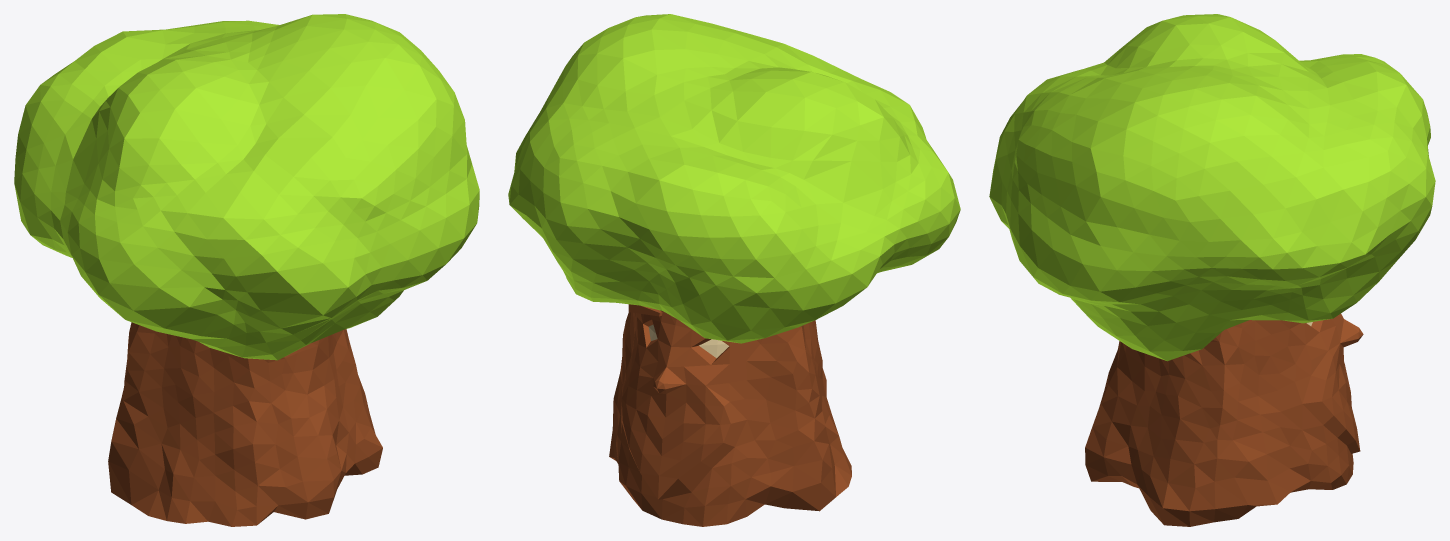
Rendered from tree.fbx.
3 views of the same model, side by side, from view 1: azimuth 30°, elevation 25°; view 2: azimuth 150°, elevation 25°; view 3: azimuth 270°, elevation 25° (orthographic). The views are drawn at different scales.
Visible parts, largest first — view 1: Cylinder.002; view 2: Cylinder.002; view 3: Cylinder.002.
Boxes of the visible parts, x1=… form: Cylinder.002: x1=14, y1=14, x2=479, y2=526; Cylinder.002: x1=508, y1=14, x2=960, y2=526; Cylinder.002: x1=989, y1=14, x2=1435, y2=526.
Bounding box in the file's own units: 1664 × 1789 × 1683.
